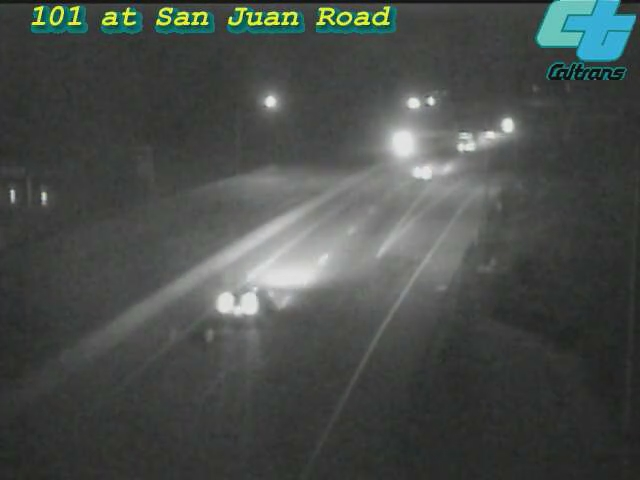vehicle: (381, 131, 461, 211), (205, 260, 285, 340), (374, 119, 424, 169), (485, 100, 535, 150), (465, 109, 515, 159), (449, 116, 499, 166)
